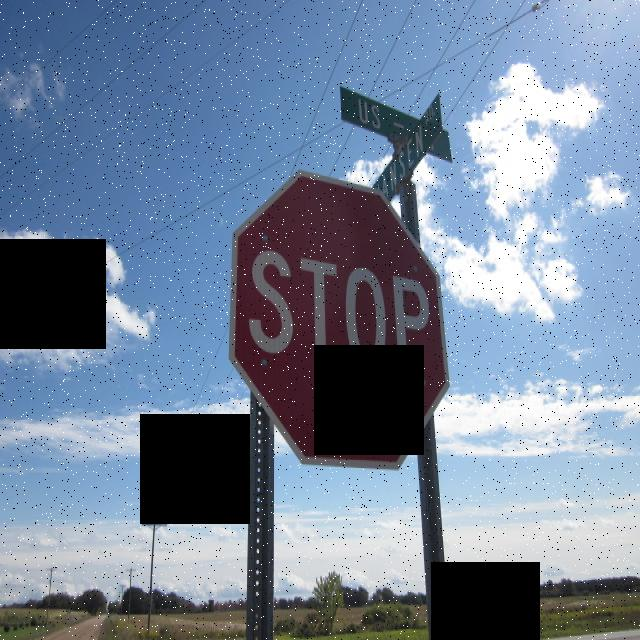stop: (224, 168, 452, 472)
